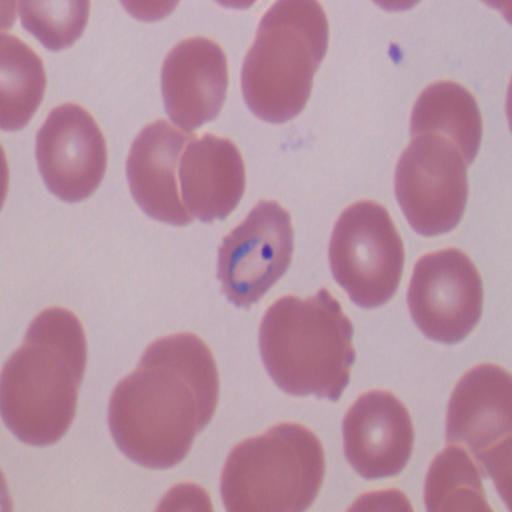Infected: (213, 199, 298, 305)
Uninfected: (262, 288, 355, 403), (107, 369, 192, 469), (142, 334, 221, 437), (444, 359, 512, 477), (328, 199, 403, 305), (394, 133, 469, 237), (129, 120, 201, 225), (0, 348, 76, 445), (409, 250, 487, 344), (33, 101, 105, 200), (240, 28, 316, 119), (410, 79, 481, 170), (342, 390, 413, 480), (161, 37, 230, 128), (178, 133, 247, 223), (222, 437, 301, 512), (24, 308, 89, 395), (262, 423, 325, 512), (262, 0, 327, 64)
